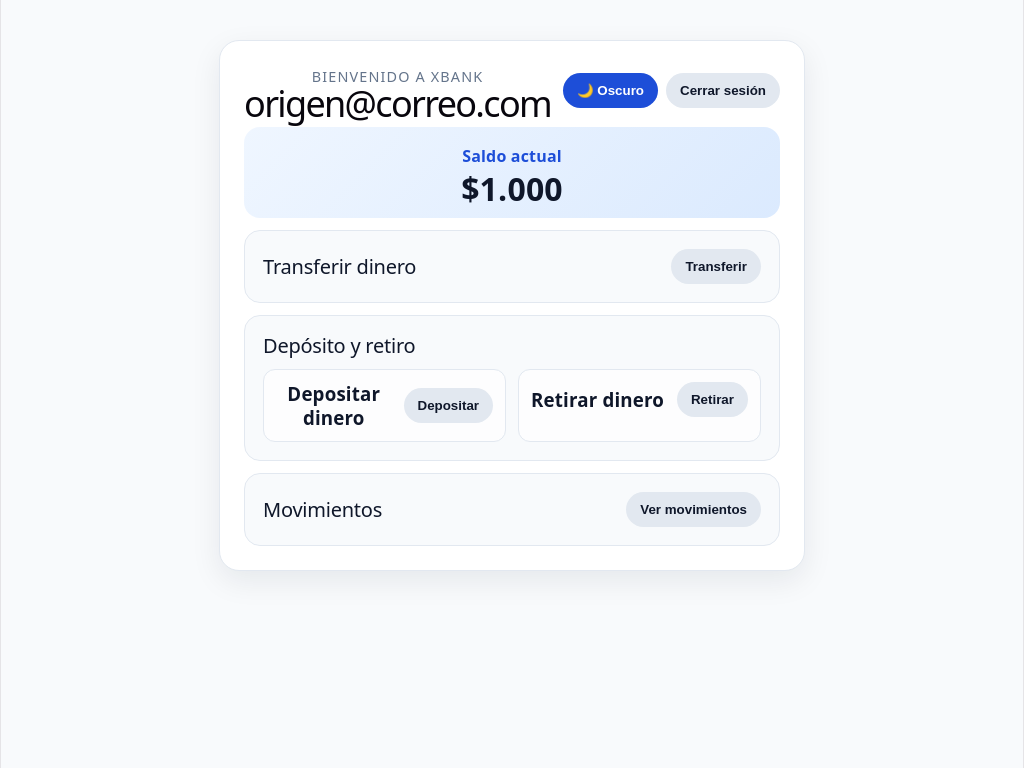
Formulario de transferencia › renderiza los campos del formulario de transferencia
The width and height of the screenshot is (1024, 768).
Click the button "Transferir": (716,266) [672,249,761,284]
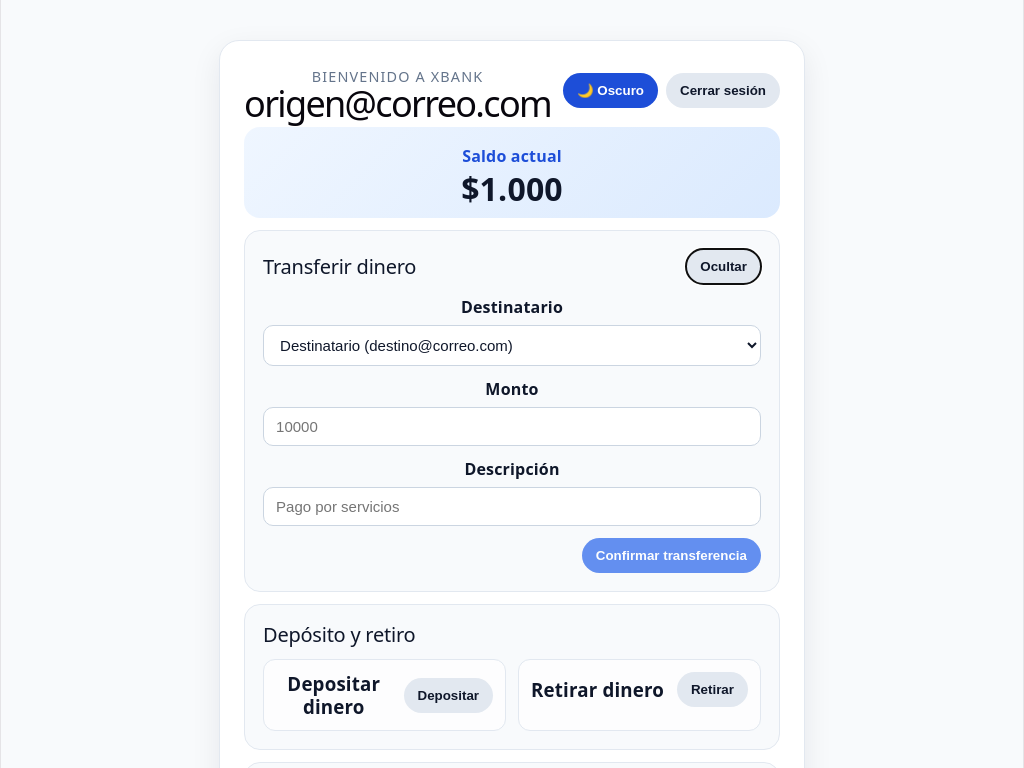
Check: the dropdown labelled "Destinatario" is shown, box [263,325,761,366]
Check: the number field labelled "Monto" is shown, box [263,407,761,446]
Check: the field labelled "Descripción" is shown, box [263,487,761,526]
